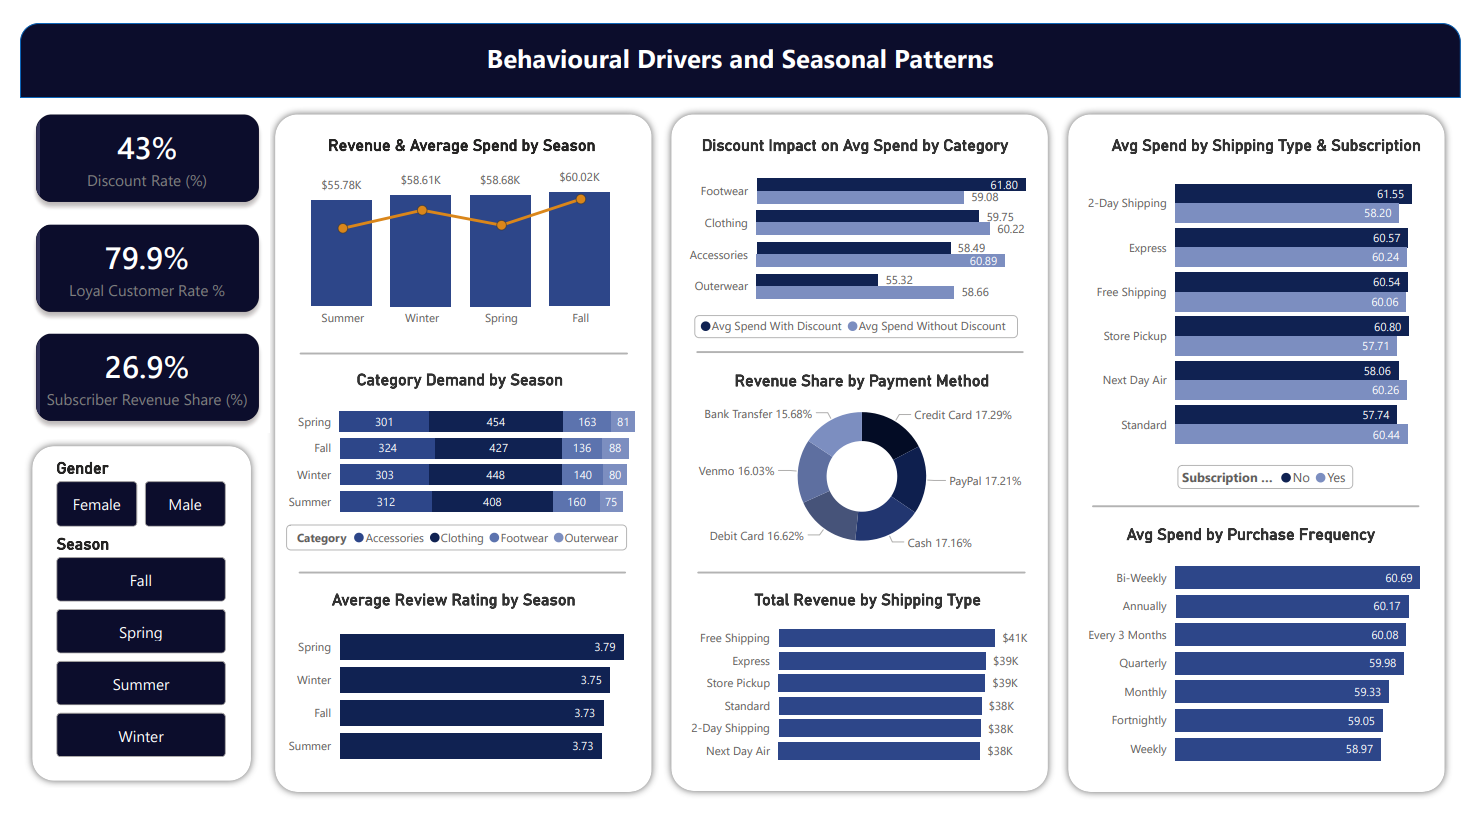

The dashboard page shown, as its layout file describes it:
{"tool":"powerbi","page":{"name":"Behavioural & Seasonal Intelligence","canvas":[1500,820],"ordinal":1},"visuals":[{"type":"shape","box":[665,86.7,418.3,725],"z":0},{"type":"shape","box":[1078.6,87.3,417.1,725.7],"z":0,"group":"g1"},{"type":"barChart","title":"Category Demand by Season","fields":{"Category":["public customer.season"],"Y":["public customer.Number of Customers"],"Series":["public customer.category"]},"box":[270,361.4,375.7,192.9],"z":0,"group":"g4"},{"type":"group","id":"g1","title":"Group 3","box":[1078.6,87.3,417.1,725.7],"z":1000},{"type":"shape","box":[277.2,522.4,354.5,26.5],"z":1000,"group":"g4"},{"type":"shape","box":[252.9,87.1,417.1,725.7],"z":2000},{"type":"shape","box":[0,0,1500,78.3],"z":3000,"group":"g2"},{"type":"cardVisual","fields":{"Data":["public customer.Discount Rate (%)","public customer.Loyal Customer Rate %","public customer.Subscriber Revenue Share (%)"]},"box":[0,78.6,265.7,354.3],"z":3000},{"type":"textbox","box":[392.1,12.9,715.7,54.3],"z":4000,"group":"g2"},{"type":"shape","box":[0,432.9,252.9,368.6],"z":4000},{"type":"advancedSlicerVisual","fields":{"Values":["public customer.season"]},"box":[33.3,531.7,186.7,241.7],"z":5000},{"type":"group","id":"g2","title":"Group 4","box":[0,0,1500,78.3],"z":10000},{"type":"lineClusteredColumnComboChart","title":"Revenue & Average Spend by Season","fields":{"Category":["public customer.season"],"Y2":["public customer.Average Purchase Amount"],"Y":["public customer.Total Revenue"]},"box":[265,116.7,390,208.3],"z":11000},{"type":"advancedSlicerVisual","fields":{"Values":["public customer.gender"]},"box":[32.9,452.9,187.1,78.6],"z":12000},{"type":"group","id":"g3","title":"Group 1","box":[270,361.4,375.7,192.9],"z":13000},{"type":"shape","box":[291.4,333.6,341.4,20],"z":14000},{"type":"shape","box":[290,562.1,341.4,20],"z":15000},{"type":"clusteredBarChart","fields":{"Category":["public customer.season"],"Y":["public customer.Average Review Rating"]},"box":[270,590,362.9,195.7],"z":16000},{"type":"group","id":"g4","title":"Group 2","box":[270,361.4,375.7,192.9],"z":16001,"group":"g3"},{"type":"clusteredBarChart","fields":{"Category":["public customer.shipping_type"],"Y":["public customer.Total Revenue"]},"box":[686.7,590,391.7,191.7],"z":17000},{"type":"clusteredBarChart","title":"Avg Spend by Shipping Type & Subscription","fields":{"Category":["public customer.shipping_type"],"Y":["public customer.Average Purchase Amount"],"Series":["public customer.subscription_status"]},"box":[1100,116.7,395,375],"z":18000,"group":"g6"},{"type":"donutChart","title":"Revenue Share by Payment Method","fields":{"Y":["public customer.Total Revenue"],"Category":["public customer.payment_method"]},"box":[673.3,361.7,406.7,201.7],"z":18000},{"type":"shape","box":[704,332.5,340.8,21],"z":19000},{"type":"shape","box":[705,561.7,341.7,20],"z":20000},{"type":"clusteredBarChart","title":"Avg Spend by Purchase Frequency","fields":{"Category":["public customer.frequency_of_purchases"],"Y":["public customer.Average Purchase Amount"]},"box":[1100,521.7,363.3,263.3],"z":21000},{"type":"clusteredBarChart","title":"Discount Impact on Avg Spend by Category","fields":{"Category":["public customer.category"],"Y":["public customer.Avg Spend With Discount","public customer.Avg Spend Without Discount"]},"box":[686.7,116.7,365,216.7],"z":21500,"group":"g5"},{"type":"group","id":"g5","title":"Group 5","box":[686.7,116.7,365,216.7],"z":22000},{"type":"shape","box":[1204.6,460,183.1,24.6],"z":23000,"group":"g6"},{"type":"shape","box":[1115.7,492.9,341.4,20],"z":23000},{"type":"group","id":"g6","title":"Group 6","box":[1100,116.7,395,375],"z":24000},{"type":"shape","box":[702.1,304,337.1,23.8],"z":25500,"group":"g5"}]}

Visuals, with their boxes in screenshot pixels (x1, y1, x2, y2), scaled from the page's 1500x820 canvas onto the 1482x832 screenshot:
shape: [left=657, top=88, right=1070, bottom=824]
shape: [left=1066, top=89, right=1478, bottom=825]
"Category Demand by Season" barChart: [left=267, top=367, right=638, bottom=562]
"Group 3" group: [left=1066, top=89, right=1478, bottom=825]
shape: [left=274, top=530, right=624, bottom=557]
shape: [left=250, top=88, right=662, bottom=825]
shape: [left=0, top=0, right=1481, bottom=79]
cardVisual - public customer.Discount Rate (%) x public customer.Loyal Customer Rate %: [left=0, top=80, right=263, bottom=439]
textbox: [left=387, top=13, right=1095, bottom=68]
shape: [left=0, top=439, right=250, bottom=813]
advancedSlicerVisual - public customer.season: [left=33, top=539, right=217, bottom=785]
"Group 4" group: [left=0, top=0, right=1481, bottom=79]
"Revenue & Average Spend by Season" lineClusteredColumnComboChart: [left=262, top=118, right=647, bottom=330]
advancedSlicerVisual - public customer.gender: [left=33, top=460, right=217, bottom=539]
"Group 1" group: [left=267, top=367, right=638, bottom=562]
shape: [left=288, top=338, right=625, bottom=359]
shape: [left=287, top=570, right=624, bottom=591]
clusteredBarChart - public customer.season x public customer.Average Review Rating: [left=267, top=599, right=625, bottom=797]
"Group 2" group: [left=267, top=367, right=638, bottom=562]
clusteredBarChart - public customer.shipping_type x public customer.Total Revenue: [left=678, top=599, right=1065, bottom=793]
"Avg Spend by Shipping Type & Subscription" clusteredBarChart: [left=1087, top=118, right=1477, bottom=499]
"Revenue Share by Payment Method" donutChart: [left=665, top=367, right=1067, bottom=572]
shape: [left=696, top=337, right=1032, bottom=359]
shape: [left=697, top=570, right=1034, bottom=590]
"Avg Spend by Purchase Frequency" clusteredBarChart: [left=1087, top=529, right=1446, bottom=796]
"Discount Impact on Avg Spend by Category" clusteredBarChart: [left=678, top=118, right=1039, bottom=338]
"Group 5" group: [left=678, top=118, right=1039, bottom=338]
shape: [left=1190, top=467, right=1371, bottom=492]
shape: [left=1102, top=500, right=1440, bottom=520]
"Group 6" group: [left=1087, top=118, right=1477, bottom=499]
shape: [left=694, top=308, right=1027, bottom=333]
